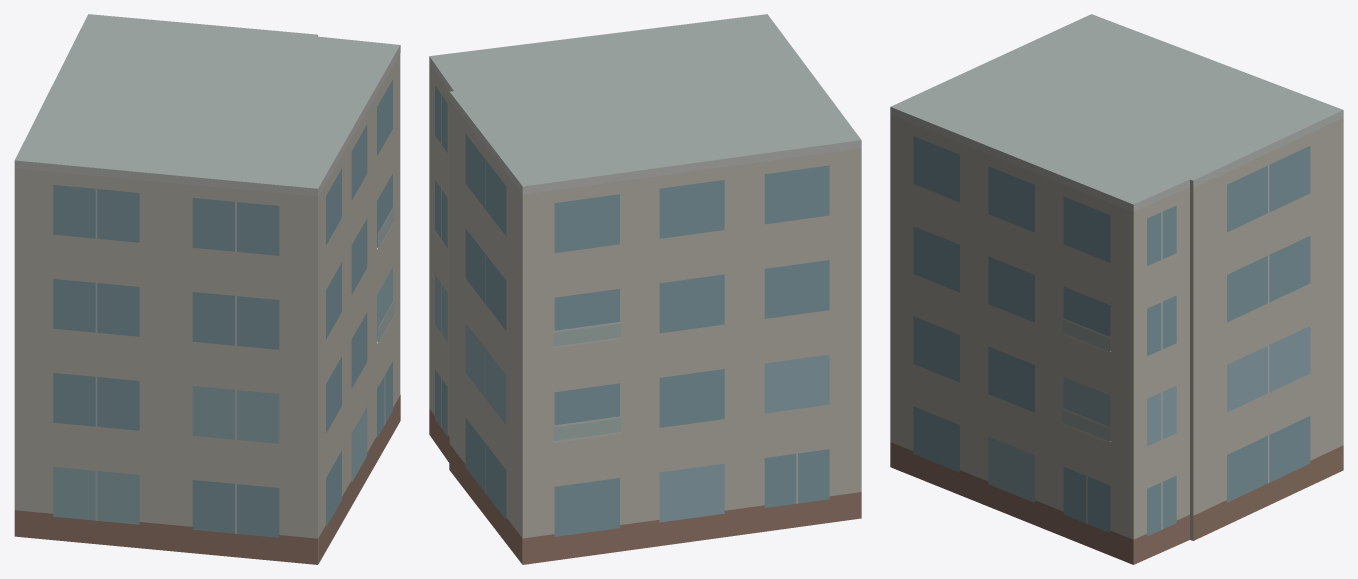
The model's file is survey-upis-32534435.glb.
The picture shows the model from 3 angles, left to right: view 1: azimuth 30°, elevation 25°; view 2: azimuth 150°, elevation 25°; view 3: azimuth 270°, elevation 25°; orthographic projection. The views are drawn at different scales.
Visible parts, largest first — view 1: survey-upis-32534435.tmp; view 2: survey-upis-32534435.tmp; view 3: survey-upis-32534435.tmp.
Boxes of the visible parts, <box> form: survey-upis-32534435.tmp: <box>14,14,400,564</box>; survey-upis-32534435.tmp: <box>429,14,861,564</box>; survey-upis-32534435.tmp: <box>890,14,1343,564</box>.
Bounding box in the file's own units: 13.17 × 11.6 × 13.23.
